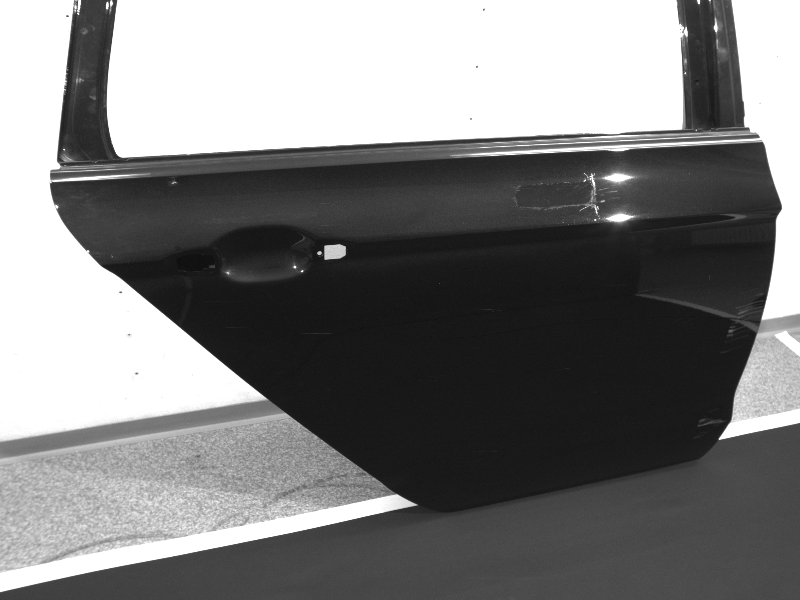scratch: (720, 286, 766, 356), (694, 410, 726, 441), (223, 324, 247, 331), (481, 307, 504, 314), (475, 450, 501, 454), (304, 332, 332, 335)
